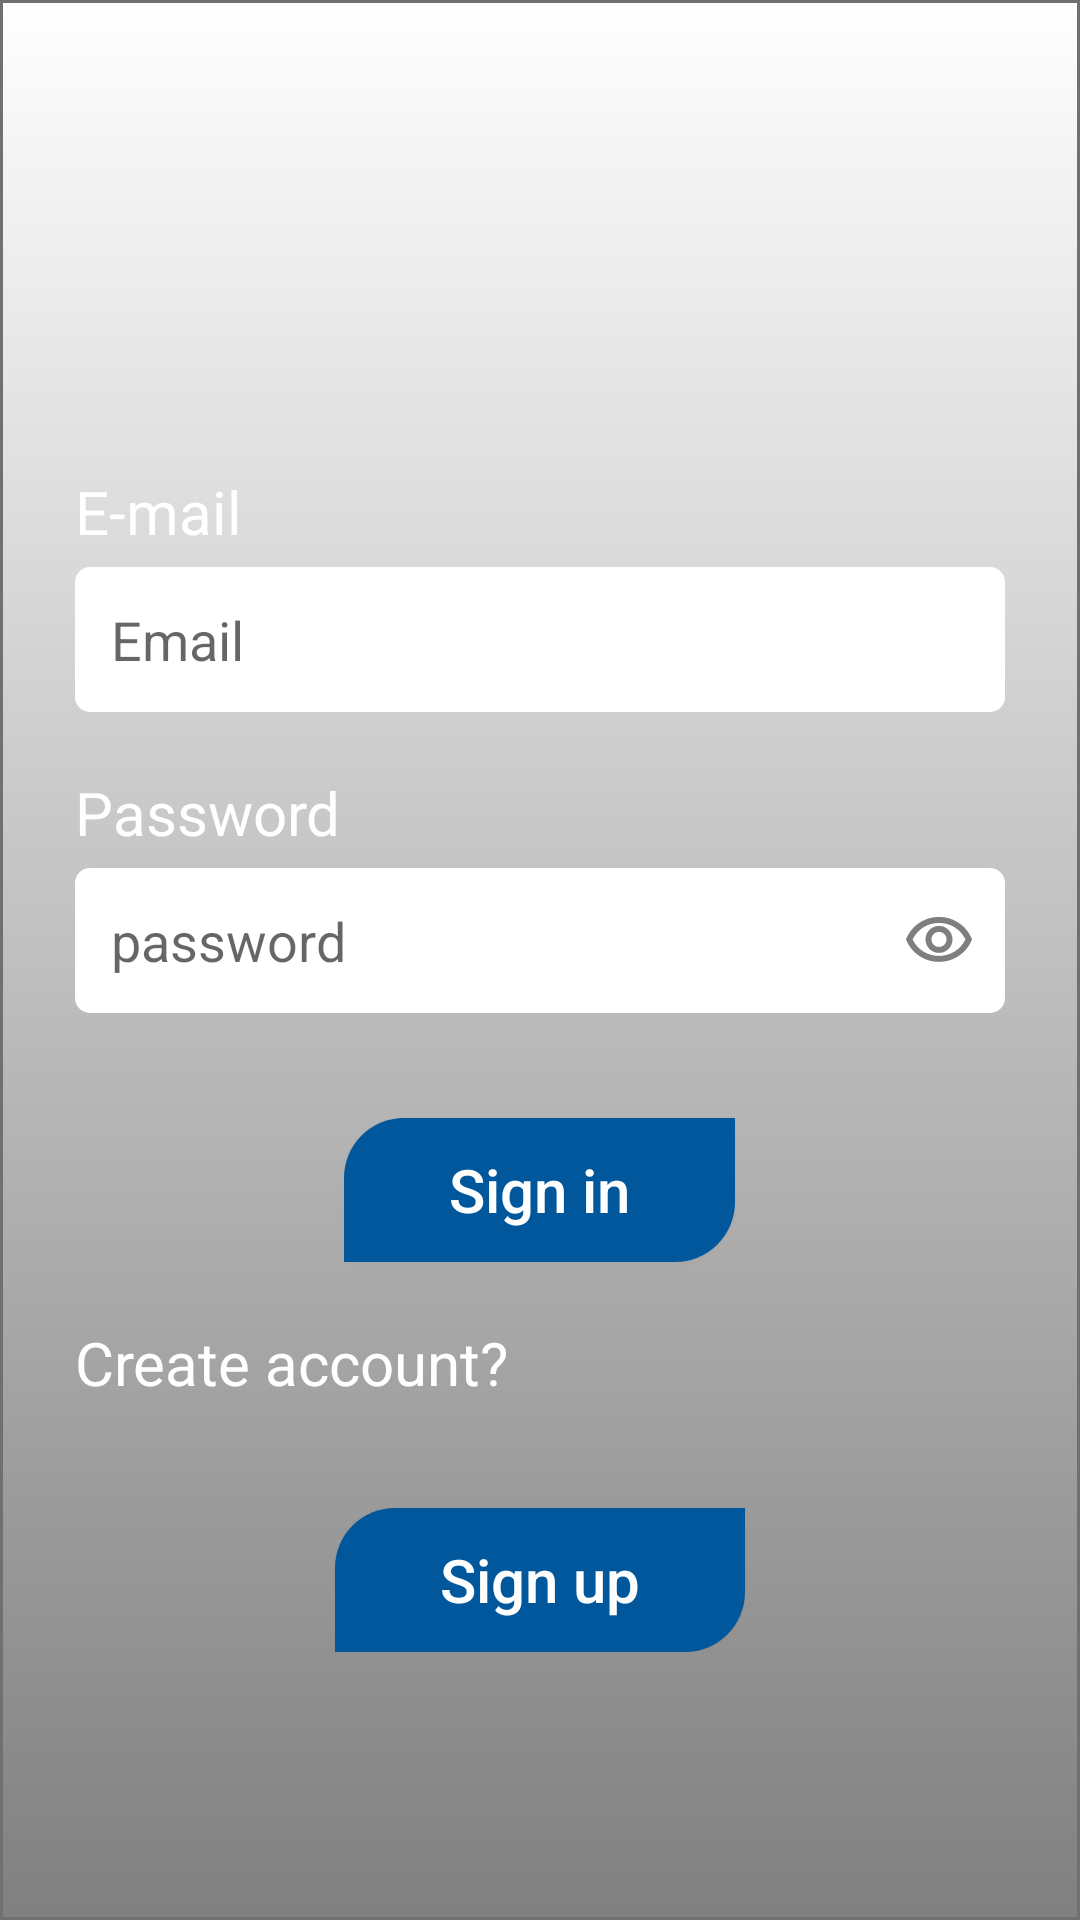

Where to tap for icons on this 1080 x 1920 app screen, as [x,y]:
visibility: [939,939]
